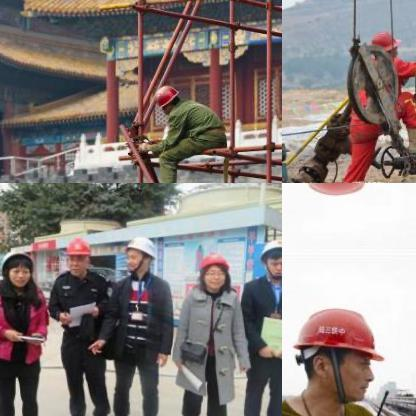Helmet: (283, 294, 388, 410), (282, 183, 390, 208), (124, 231, 158, 279), (0, 245, 36, 290), (196, 248, 230, 290), (63, 233, 93, 277), (367, 28, 397, 62), (260, 234, 281, 281), (153, 84, 179, 108)
